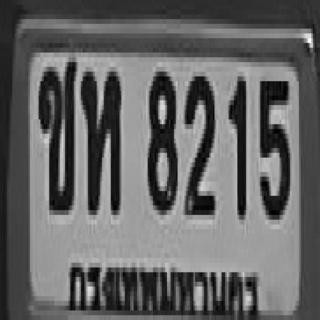A10: (37, 52, 76, 210)
A41: (81, 67, 120, 210)
N01: (227, 72, 244, 215)
N02: (183, 74, 213, 212)
N05: (258, 76, 288, 215)
N08: (146, 67, 176, 210)
P04: (64, 239, 265, 320)
